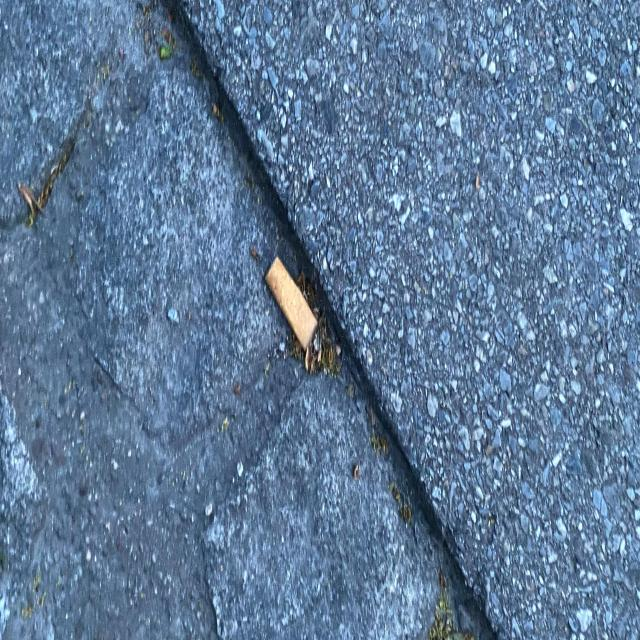other waste: (264, 254, 318, 352)
